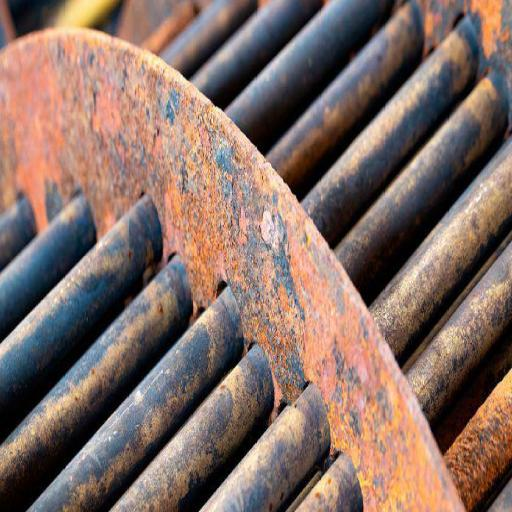segmentation: (0, 259, 216, 509)
